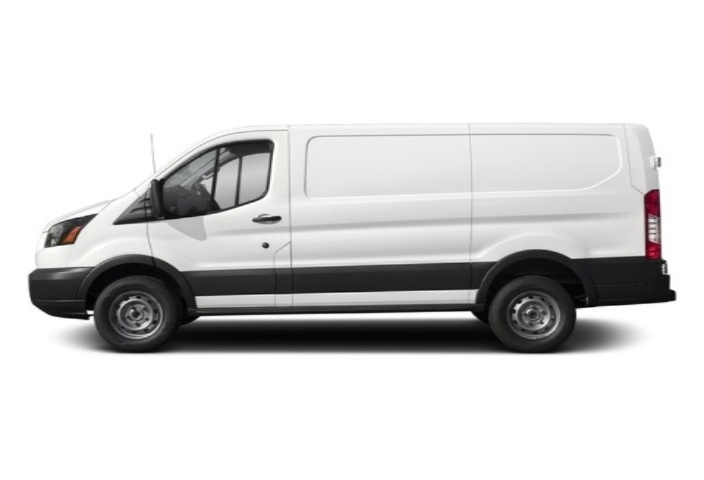van: (15, 113, 680, 365)
